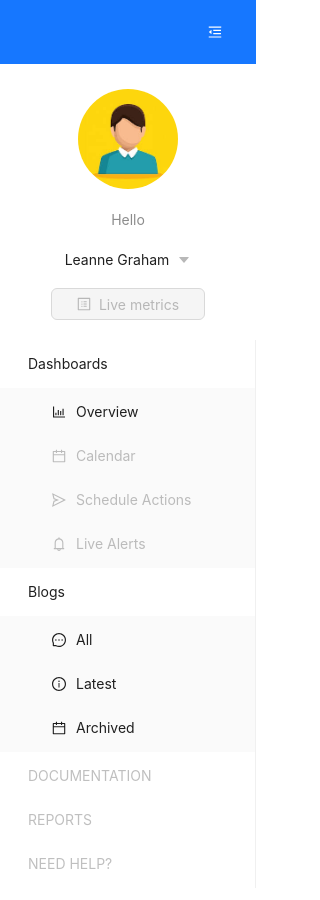
Scenario: App › Render the Sidebar and the UserMenu with user data
// hover on dropdown
Step 1. Hover over the text "Leanne Graham" → (117, 260), box [65, 251, 169, 268]
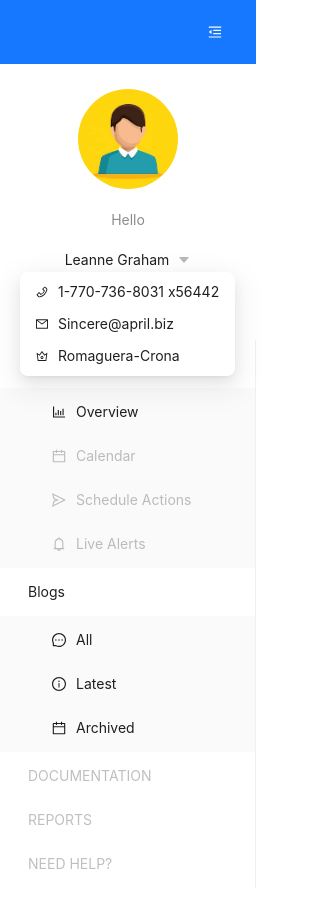
Now the text "1-770-736-8031 x56442" is shown, box [58, 281, 219, 303]
Now the text "Sincere@april.biz" is shown, box [58, 315, 174, 332]
Now the text "Romaguera-Crona" is shown, box [58, 347, 180, 364]
